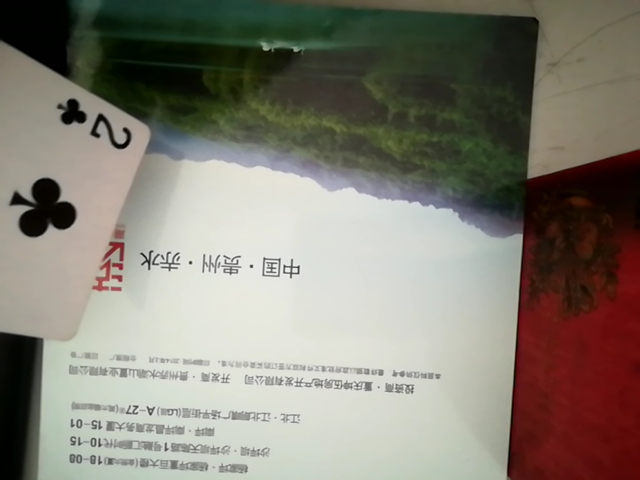mh 2: (0, 29, 155, 353)
